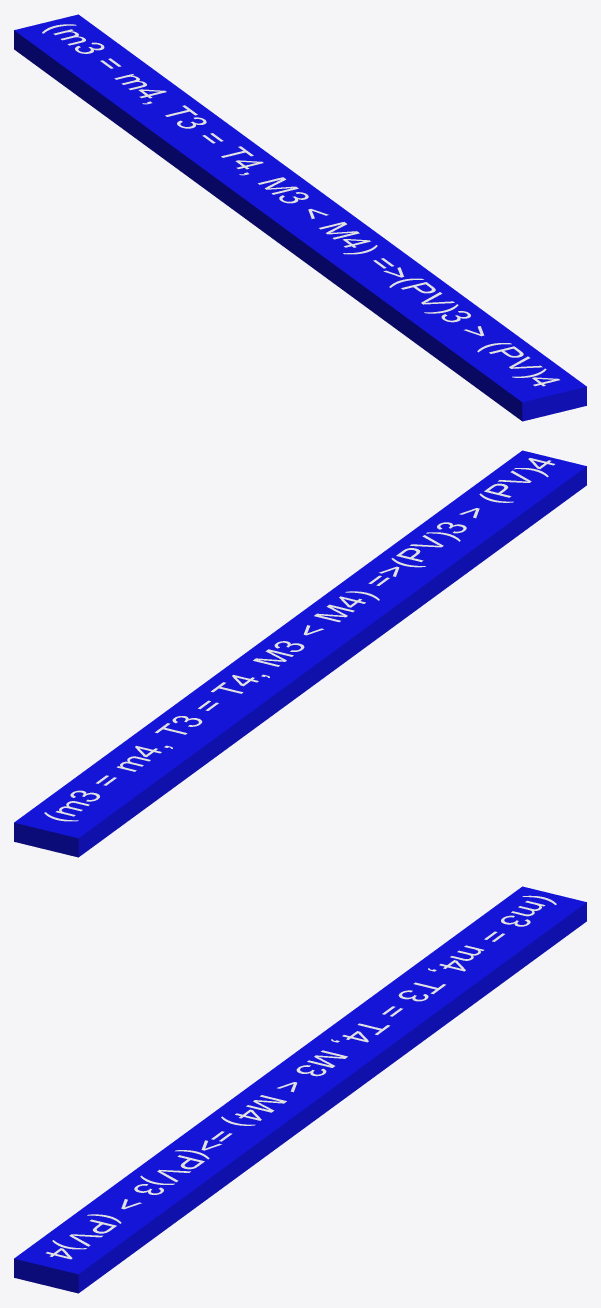
Rendered from massa22.FBX.
3 views of the same model, one above another, from view 1: azimuth 30°, elevation 25°; view 2: azimuth 150°, elevation 25°; view 3: azimuth 330°, elevation 25° (orthographic).
Parts seen in each view (by area): view 1: Text002; view 2: Text002; view 3: Text002.
Part boxes in pixels (x1,y1,x2,y2): Text002: (14, 14, 586, 421); Text002: (14, 450, 586, 857); Text002: (14, 886, 586, 1293).
Bounding box in the file's own units: 24.39 × 8.28 × 333.
